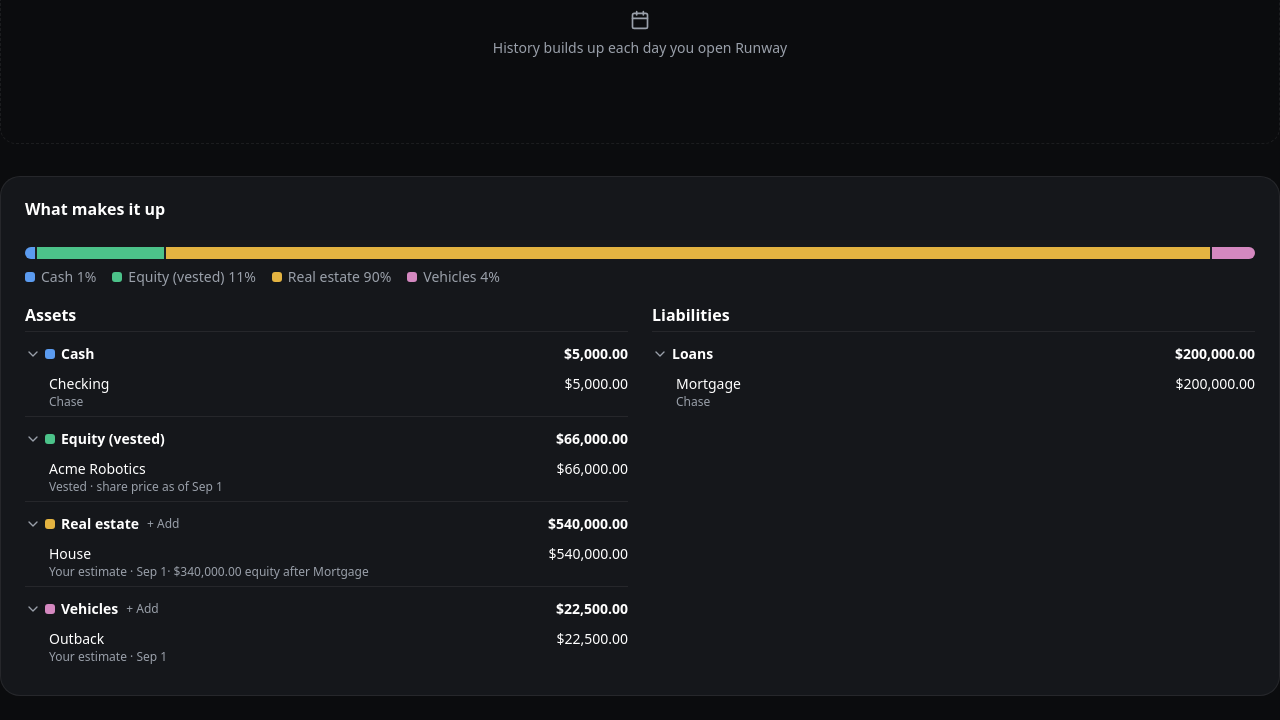
it: the breakdown › has no hand-typed value for a home Realie values, only its lookup
(page scrolled)
Click the button that starts with "House" at (326,562), box [25,538,628,586]
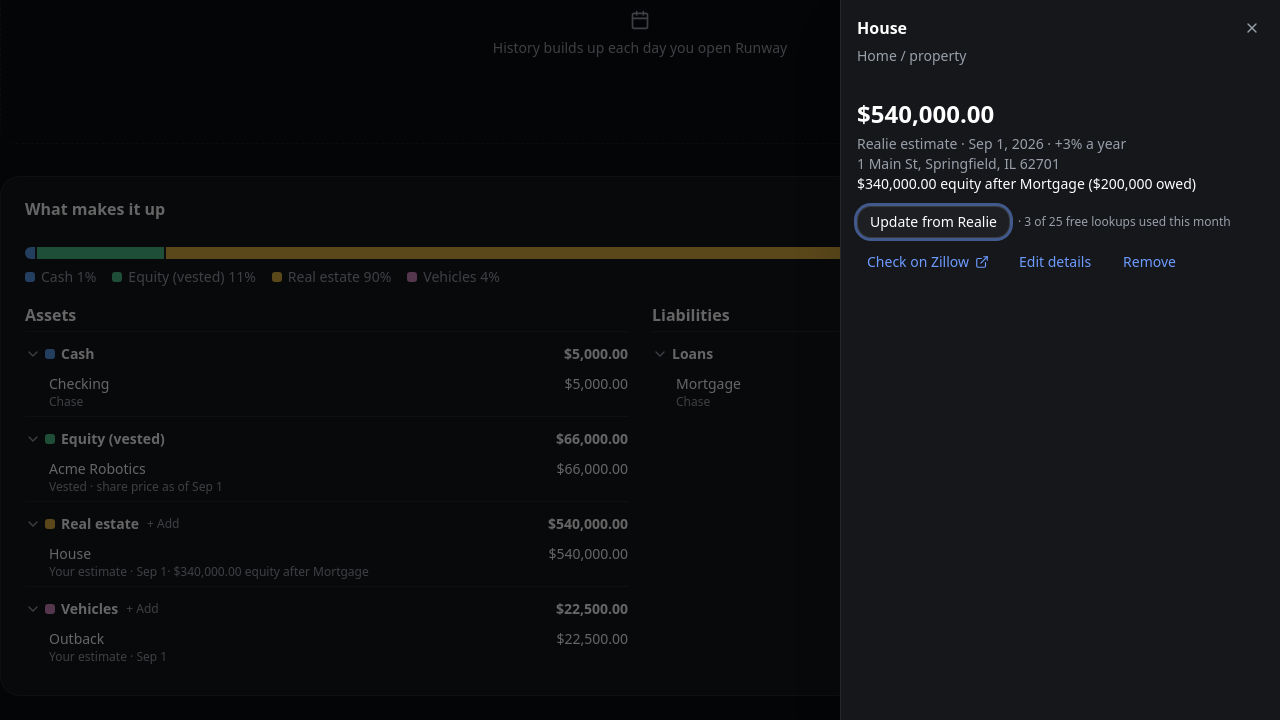
Check: the text "$540,000.00" is shown, box [857,98,994,130]
Check: the button "Update from Realie" is shown, box [857,206,1010,238]
